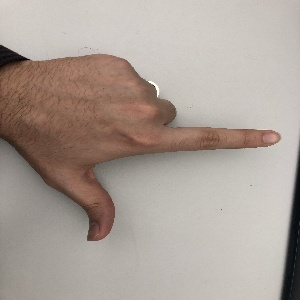hand: (31, 54, 281, 242)
